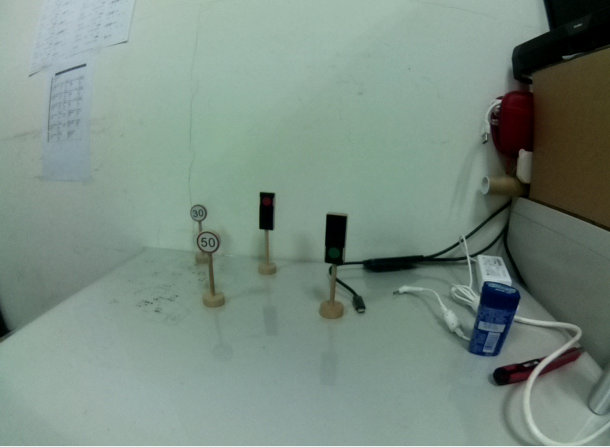Green: (323, 211, 347, 266)
Red: (257, 191, 277, 234)
Speed30: (188, 202, 208, 221)
Speed50: (194, 230, 223, 254)
